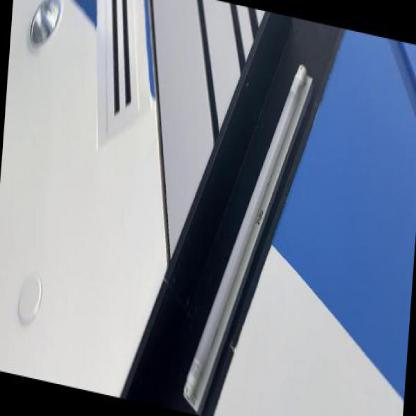light_off: (173, 33, 324, 415)
